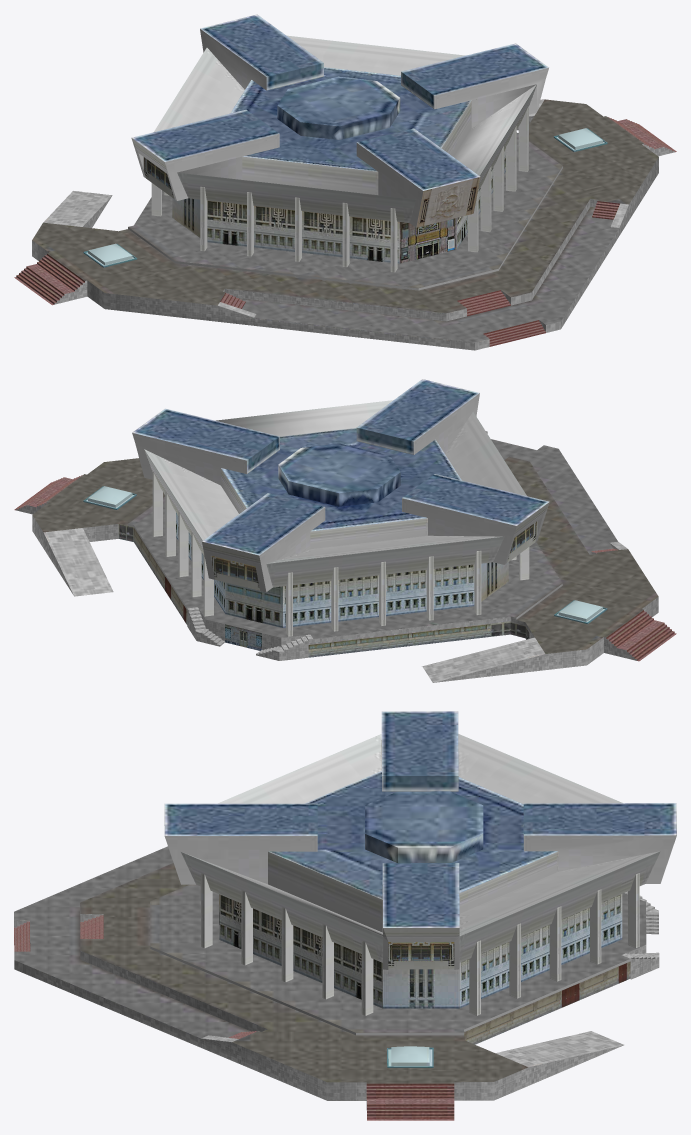
The picture shows the model from 3 angles, top to bottom: view 1: azimuth 30°, elevation 25°; view 2: azimuth 150°, elevation 25°; view 3: azimuth 270°, elevation 25°; orthographic projection. The views are drawn at different scales.
Parts seen in each view (by area): view 1: 5af003a65afdef0cb46c2d44.001; view 2: 5af003a65afdef0cb46c2d44.001; view 3: 5af003a65afdef0cb46c2d44.001.
Part boxes in pixels (x1,y1,x2,y2): 5af003a65afdef0cb46c2d44.001: (14, 14, 676, 350); 5af003a65afdef0cb46c2d44.001: (14, 379, 676, 682); 5af003a65afdef0cb46c2d44.001: (14, 711, 676, 1120).
Size of the model in its own units: 152 by 25.21 by 121.
Materials: 1 (1 with a texture image).
